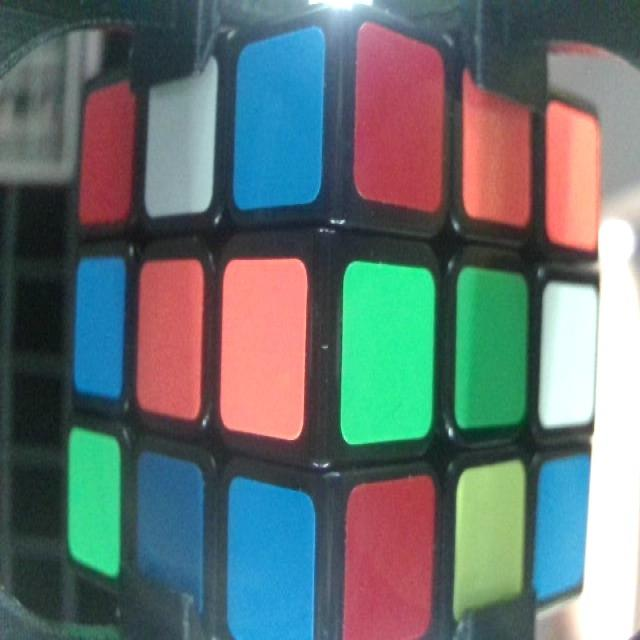b: (237, 44, 321, 204), (230, 480, 308, 640), (138, 451, 202, 606), (74, 261, 125, 405), (539, 460, 584, 600)
g: (343, 266, 435, 442), (459, 269, 528, 424), (68, 428, 120, 571)
o: (221, 259, 306, 437), (465, 68, 531, 224), (140, 260, 202, 414), (545, 101, 598, 255)
r: (359, 27, 443, 210), (346, 486, 432, 640), (81, 84, 132, 222)
w: (146, 67, 213, 212), (542, 282, 593, 418)
y: (457, 466, 523, 626)
